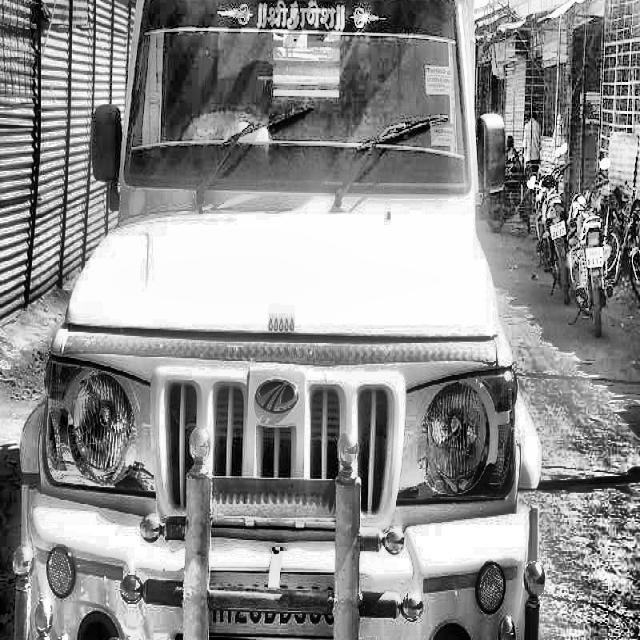light_vehicle: (4, 0, 534, 640)
